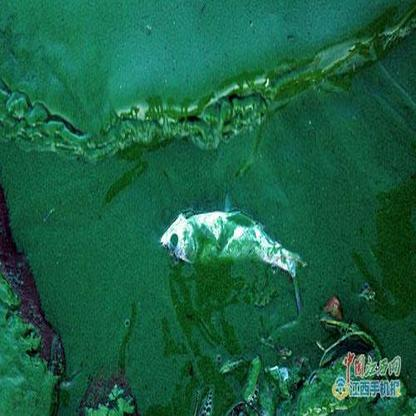deceased fish: (153, 208, 304, 278)
